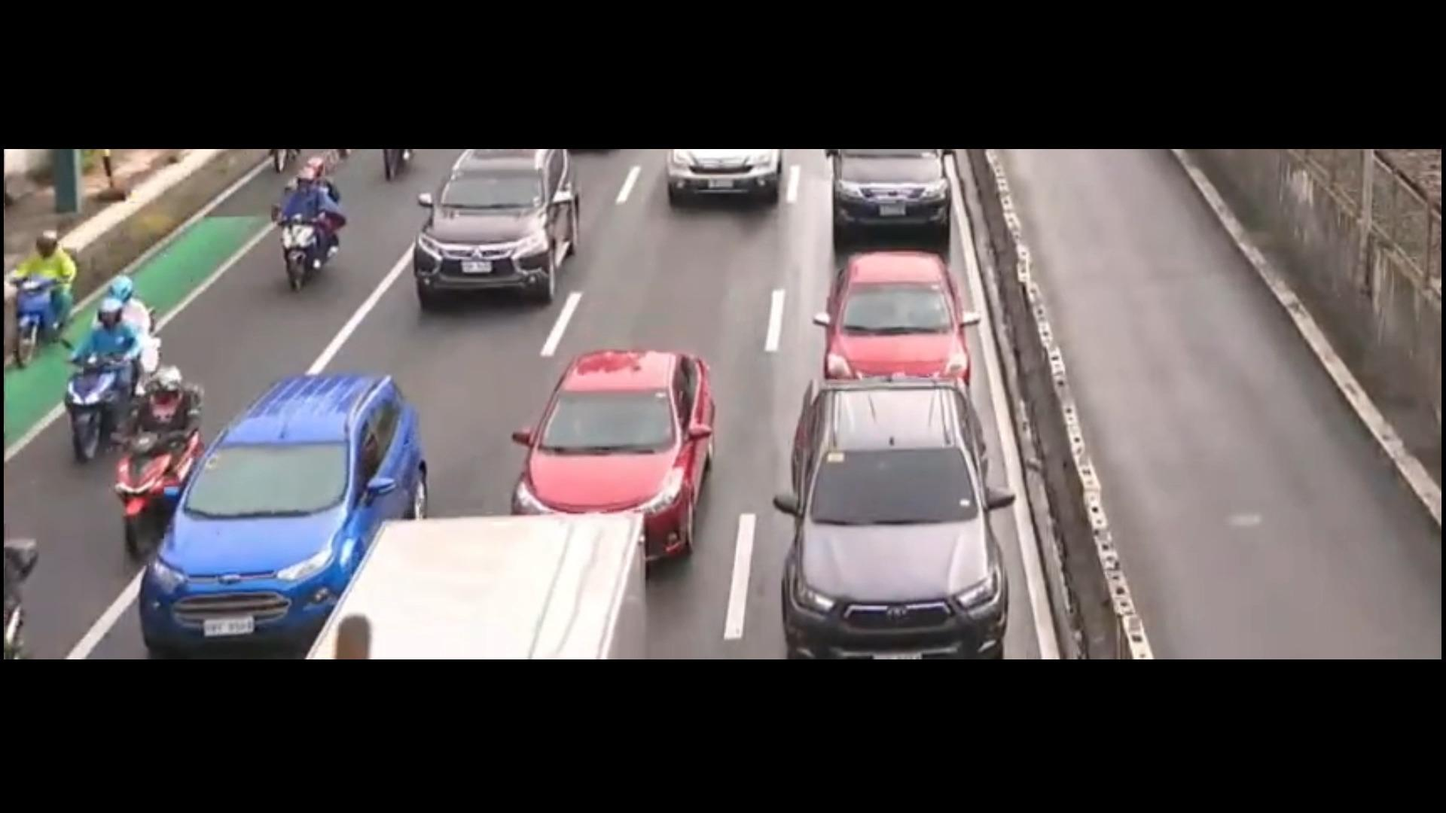Motorcycle: (57, 268, 170, 465), (108, 354, 215, 539), (274, 143, 358, 318), (0, 221, 81, 389)
SUV: (113, 350, 448, 658), (763, 373, 1021, 661), (384, 142, 588, 303)
Sedan: (480, 328, 723, 548), (802, 239, 983, 413)
